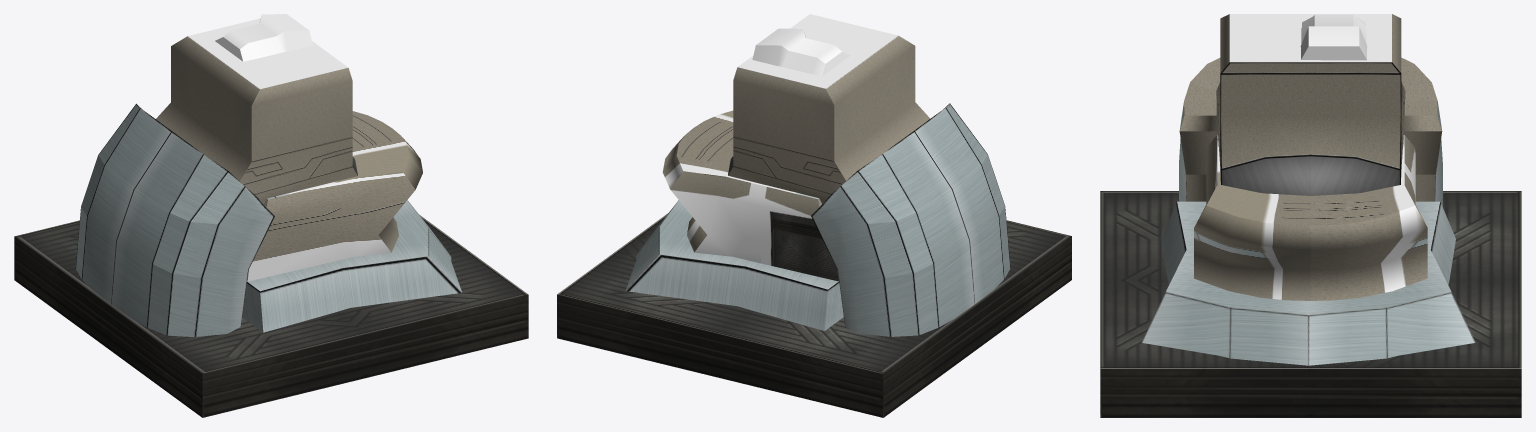
File: Building_Top_01.dae
3 views of the same model, side by side, from view 1: azimuth 30°, elevation 25°; view 2: azimuth 150°, elevation 25°; view 3: azimuth 270°, elevation 25° (orthographic). The views are drawn at different scales.
Visible parts, largest first — view 1: Building_Top_01; view 2: Building_Top_01; view 3: Building_Top_01.
Boxes of the visible parts, box(x1,y1,x2,y2) form: Building_Top_01: box(14, 14, 528, 417); Building_Top_01: box(557, 14, 1071, 417); Building_Top_01: box(1100, 14, 1521, 417).
Size of the model in its own units: 45.04 by 36.47 by 45.04.
